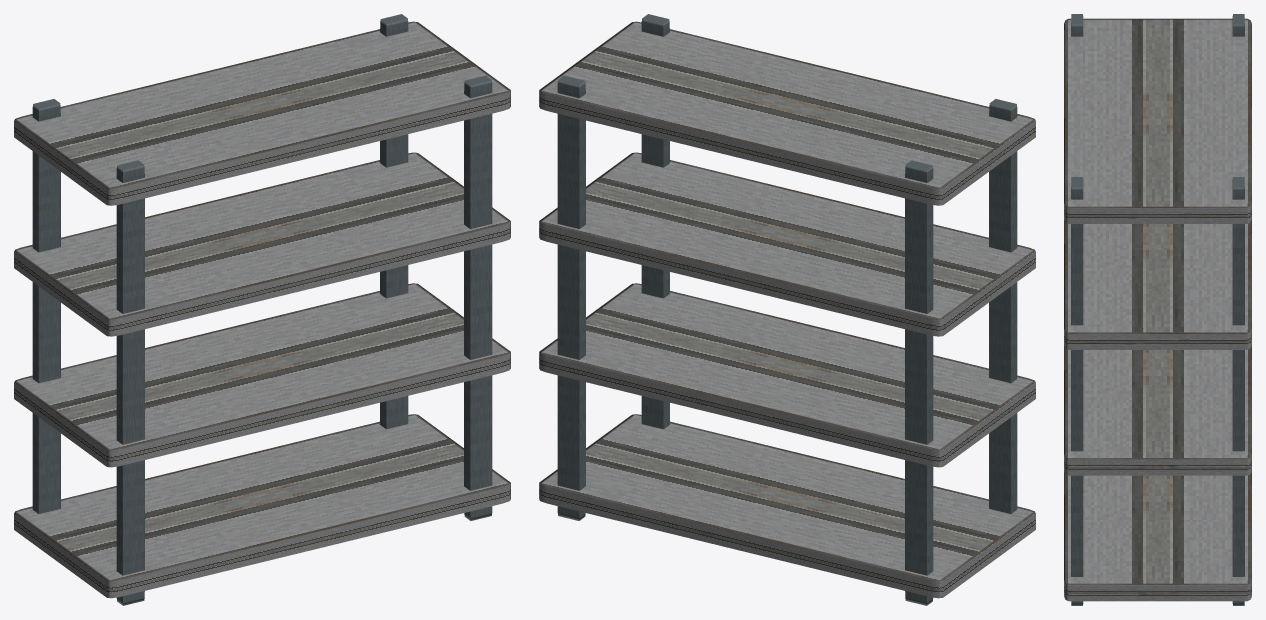
File: hose-rack.glb
3 views of the same model, side by side, from view 1: azimuth 30°, elevation 25°; view 2: azimuth 150°, elevation 25°; view 3: azimuth 270°, elevation 25° (orthographic). The views are drawn at different scales.
Parts seen in each view (by area): view 1: shelf (×4), leg (×4); view 2: shelf (×4), leg (×4); view 3: shelf (×4), leg (×4).
Part boxes in pixels (x1,y1,x2,y2): shelf (×4): (14, 21, 510, 598); leg (×4): (32, 14, 492, 605); shelf (×4): (539, 21, 1035, 598); leg (×4): (557, 14, 1017, 605); shelf (×4): (1064, 18, 1251, 601); leg (×4): (1071, 14, 1244, 605).
Size of the model in its own units: 1.6 by 1.65 by 0.67.
Materials: 2 (2 with a texture image).
